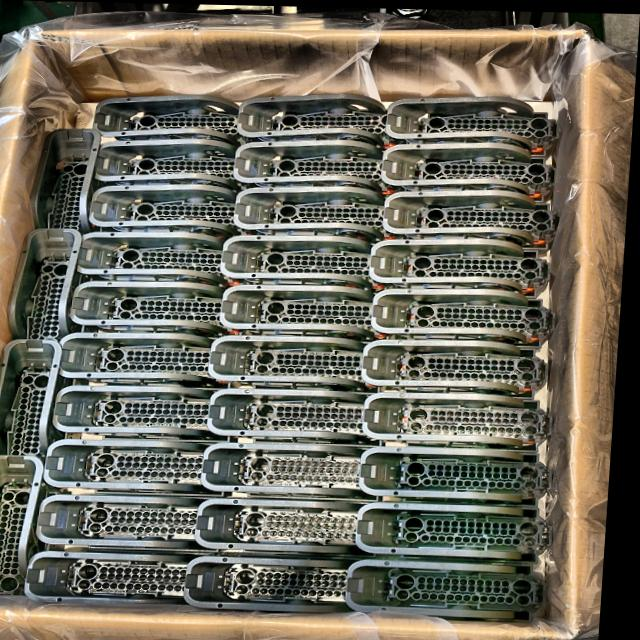P38: (0, 339, 95, 467), (354, 558, 553, 618), (363, 500, 560, 560), (366, 444, 559, 505), (224, 284, 419, 343), (368, 390, 559, 450), (50, 438, 240, 498), (213, 387, 395, 449), (223, 234, 414, 293), (202, 497, 386, 558), (59, 385, 249, 444), (207, 441, 386, 503), (64, 332, 248, 392), (366, 337, 553, 396), (192, 554, 380, 612), (375, 287, 559, 346), (236, 138, 416, 198), (372, 237, 555, 296), (383, 140, 559, 201), (73, 280, 253, 339), (43, 494, 226, 552), (10, 228, 103, 342), (213, 334, 392, 393), (32, 549, 222, 604), (92, 183, 272, 241), (387, 94, 561, 154), (0, 455, 74, 596), (236, 185, 412, 244), (386, 188, 562, 247), (239, 92, 415, 150), (79, 231, 253, 289), (31, 128, 120, 235), (95, 138, 265, 192), (94, 93, 265, 146)
